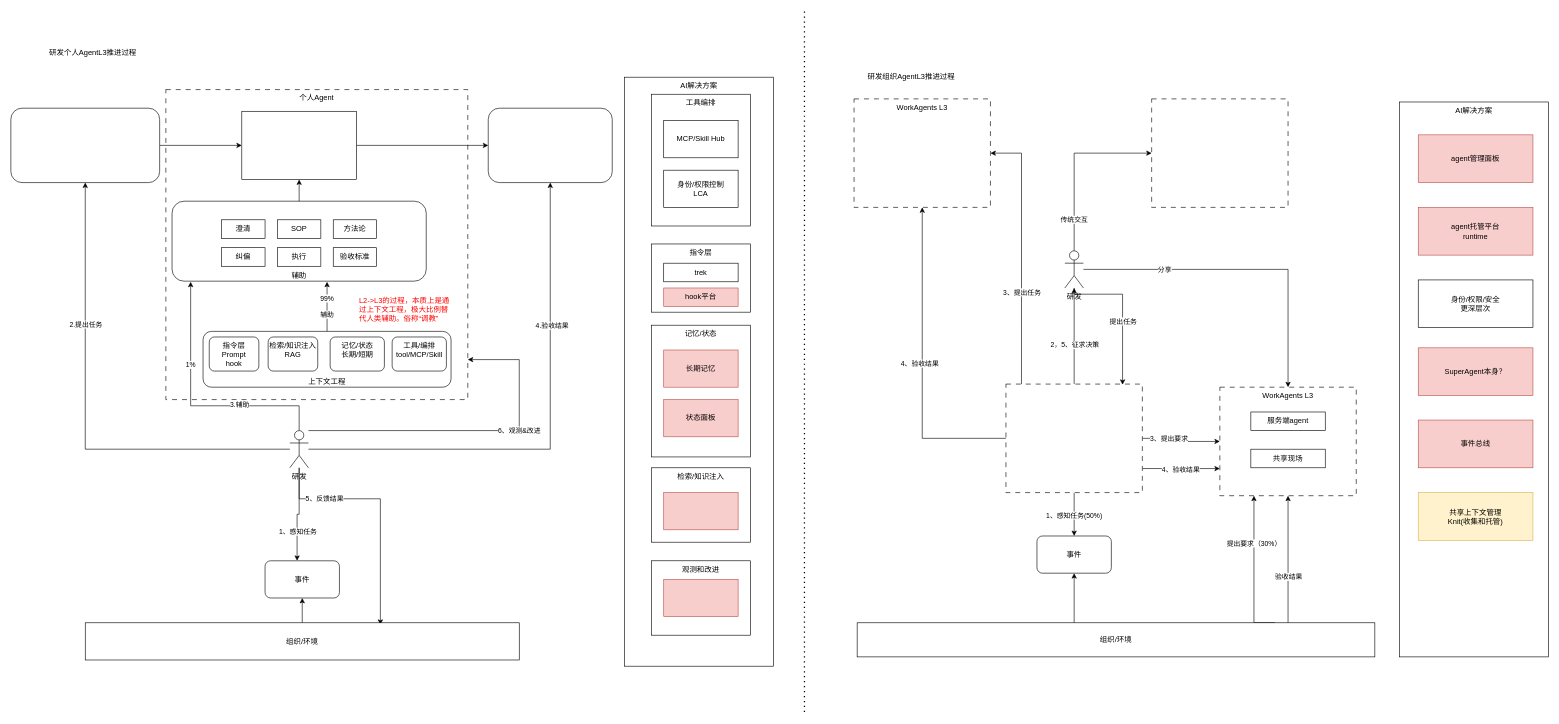
This 1559x724 diagram has some shape labels left out. The shapes that lost their labels are listed below. From the top down, each one's centre as x and y in pixels, then its label:
At [85,145]: "要求 开发代码 完成需求 填写cooper 输出结论 规划建议 ....".
At [298,145]: "Agent Runtime cc、codex、dsh+本机".
At [550,145]: "结果".
At [1219,152]: "WorkAgents L2".
At [1073,438]: "SuperAgent".
At [700,511]: "知识库".
At [700,598]: "审计/RSI".
